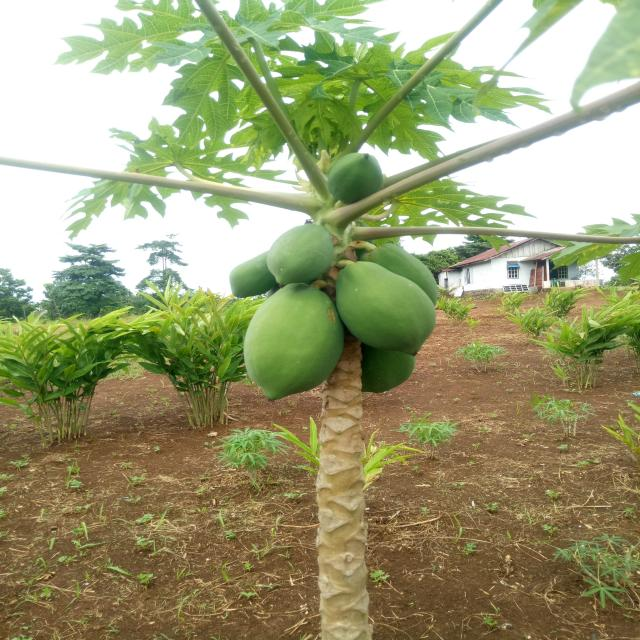Pepaya unrippen: (240, 286, 335, 408), (336, 258, 436, 362), (271, 222, 336, 287), (322, 147, 388, 209), (228, 255, 274, 302)
